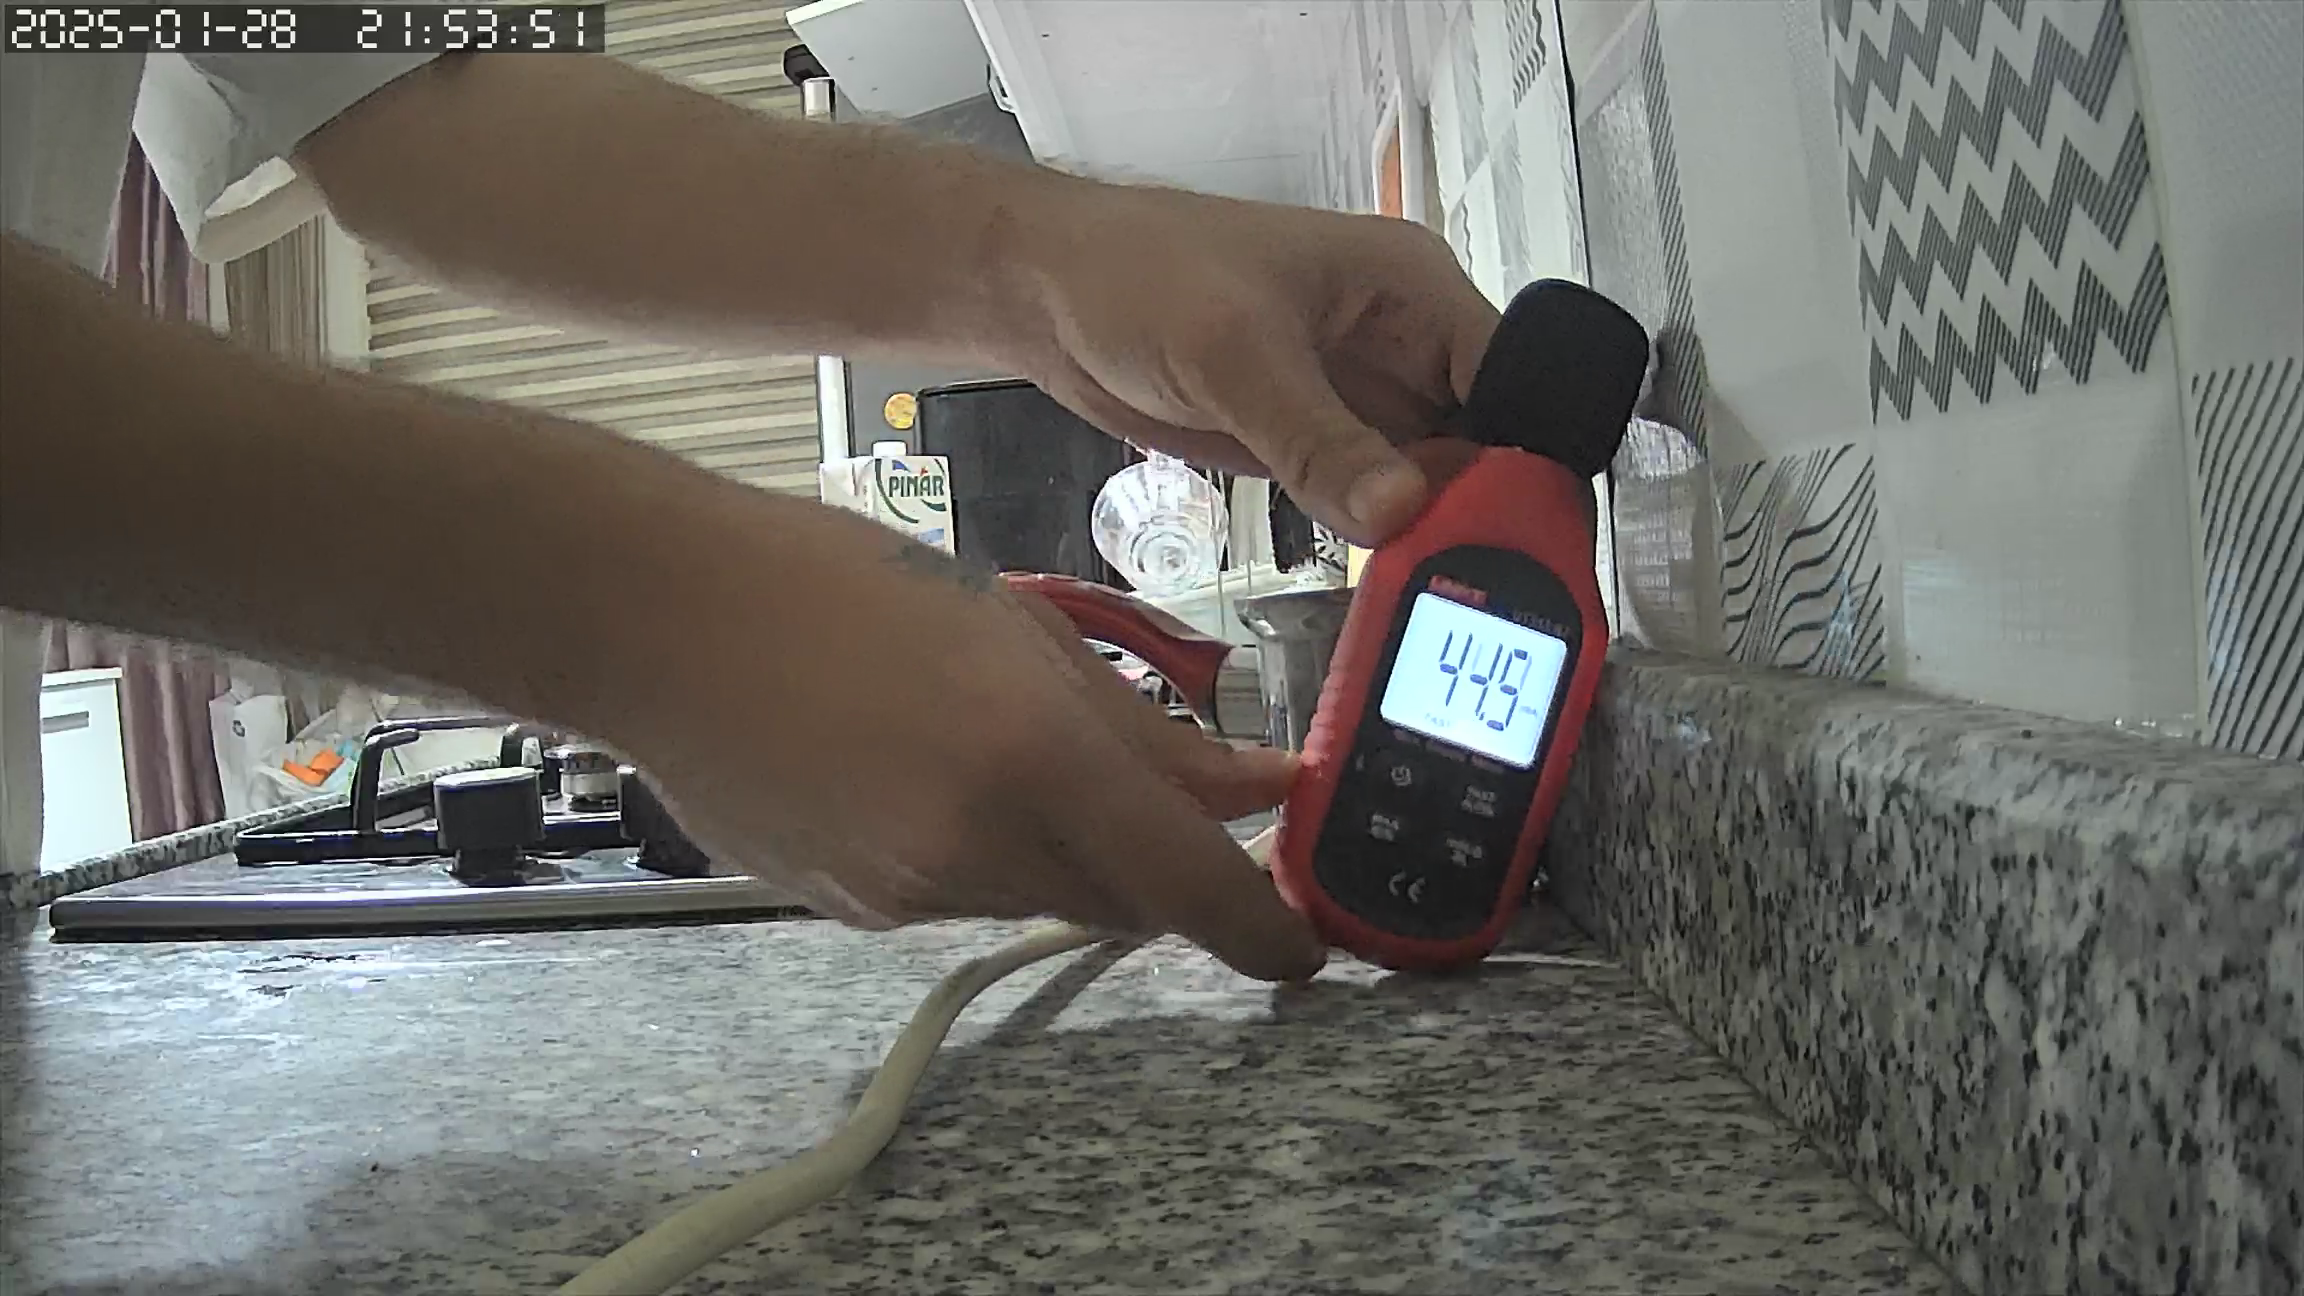screen: (1377, 590, 1570, 769)
